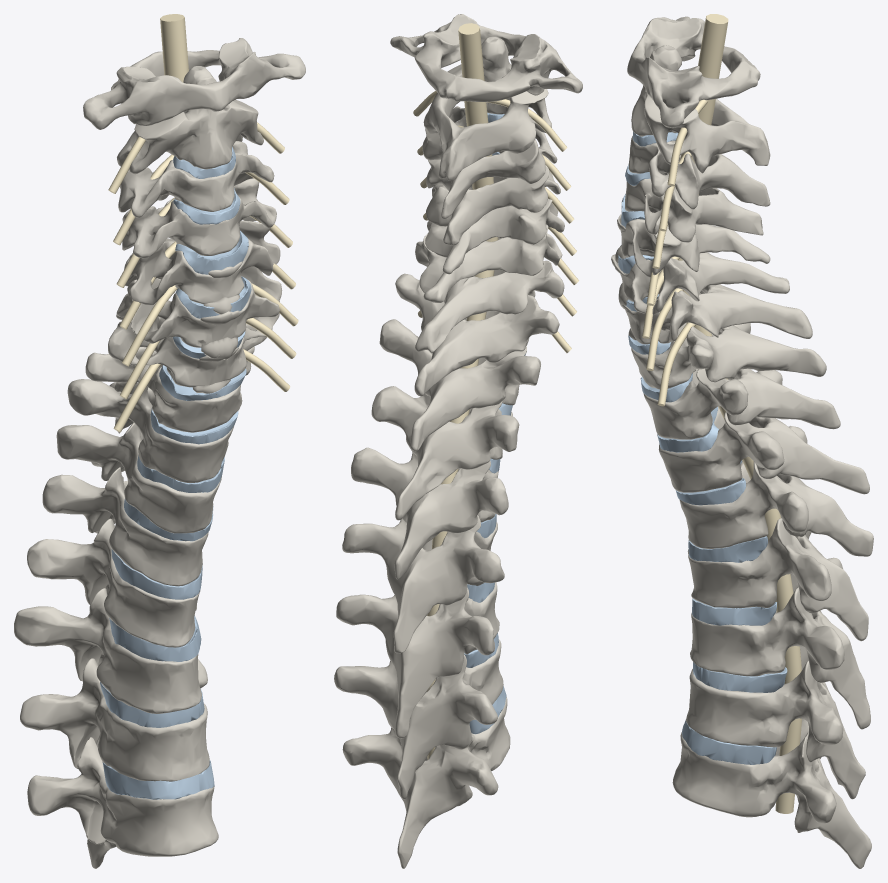
The model's file is cervical.glb.
3 views of the same model, side by side, from view 1: azimuth 30°, elevation 25°; view 2: azimuth 150°, elevation 25°; view 3: azimuth 270°, elevation 25° (orthographic). The views are drawn at different scales.
Parts seen in each view (by area): view 1: T8_geo, T7_geo, C1_geo, T6_geo, T5_geo, T4_geo, T3_geo, C2_geo, T2_geo, C5_geo, C4_geo, C3_geo (+21 smaller); view 2: T7_geo, T6_geo, T5_geo, T8_geo, T3_geo, C1_geo, T4_geo, C2_geo, T2_geo, T1_geo, C7_geo, C6_geo (+5 smaller); view 3: T8_geo, T7_geo, T6_geo, T5_geo, T3_geo, T4_geo, T2_geo, C1_geo, T1_geo, C2_geo, C7_geo, C3_geo (+14 smaller).
Boxes of the visible parts, x1,y1,x2,y2 form: T8_geo: [27, 737, 218, 868]; T7_geo: [20, 658, 209, 781]; C1_geo: [83, 38, 305, 129]; T6_geo: [14, 588, 201, 713]; T5_geo: [27, 518, 200, 647]; T4_geo: [42, 467, 208, 586]; T3_geo: [56, 422, 221, 533]; C2_geo: [117, 66, 263, 174]; T2_geo: [67, 346, 254, 482]; C5_geo: [124, 220, 280, 305]; C4_geo: [122, 178, 276, 258]; C3_geo: [118, 141, 274, 217]; T7_geo: [334, 639, 503, 799]; T6_geo: [336, 582, 499, 738]; T5_geo: [342, 515, 504, 653]; T8_geo: [342, 697, 510, 868]; T3_geo: [371, 386, 519, 520]; C1_geo: [390, 14, 582, 101]; T4_geo: [351, 447, 508, 579]; C2_geo: [423, 36, 551, 180]; T2_geo: [379, 319, 540, 451]; T1_geo: [395, 273, 559, 396]; C7_geo: [415, 233, 564, 352]; C6_geo: [423, 221, 562, 302]; T8_geo: [672, 719, 871, 868]; T7_geo: [686, 646, 865, 799]; T6_geo: [690, 557, 870, 729]; T5_geo: [687, 517, 868, 641]; T3_geo: [658, 370, 869, 494]; T4_geo: [679, 426, 873, 556]; T2_geo: [643, 323, 840, 439]; C1_geo: [627, 16, 760, 127]; T1_geo: [631, 293, 826, 389]; C2_geo: [631, 45, 770, 173]; C7_geo: [625, 284, 812, 344]; C3_geo: [628, 136, 770, 209].
Bounding box in the file's own units: 0.0843 × 0.3367 × 0.0942.
